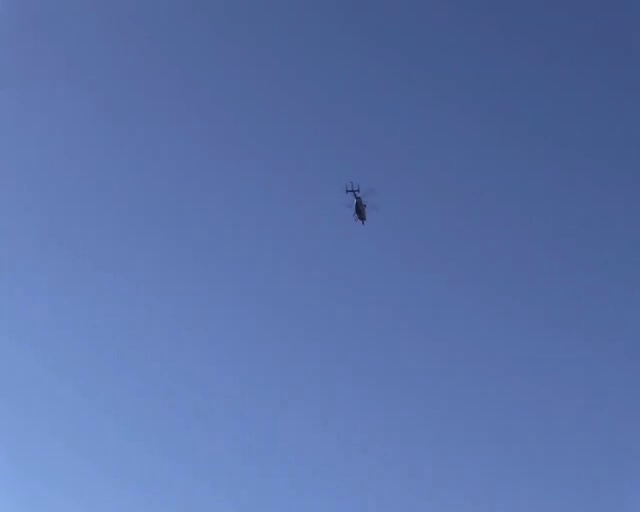HELICOPTER: (344, 179, 377, 225)
